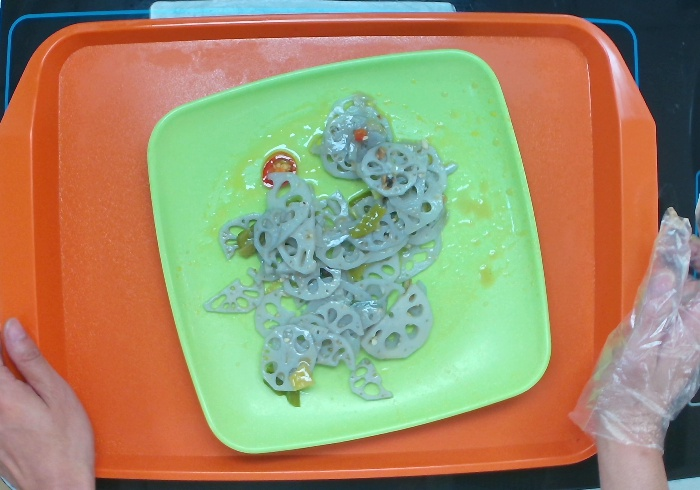ZNLD-Lv_Fang_Pan: (142, 48, 556, 459)
